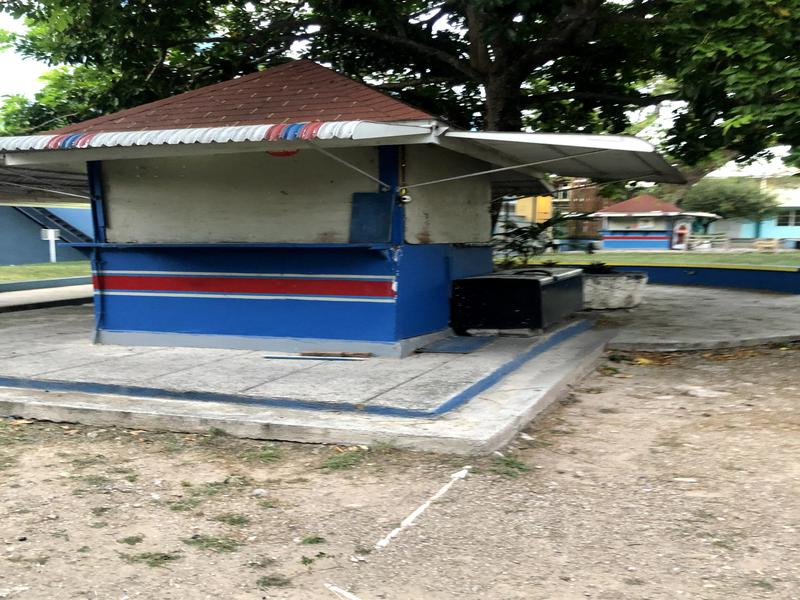18.0050609_-76.7496662_auntyjackie: (2, 41, 699, 430)
